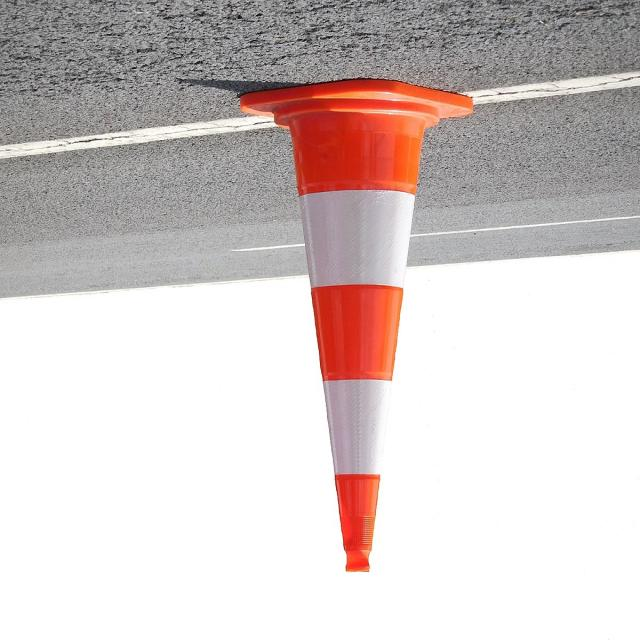cone: (237, 77, 486, 577)
